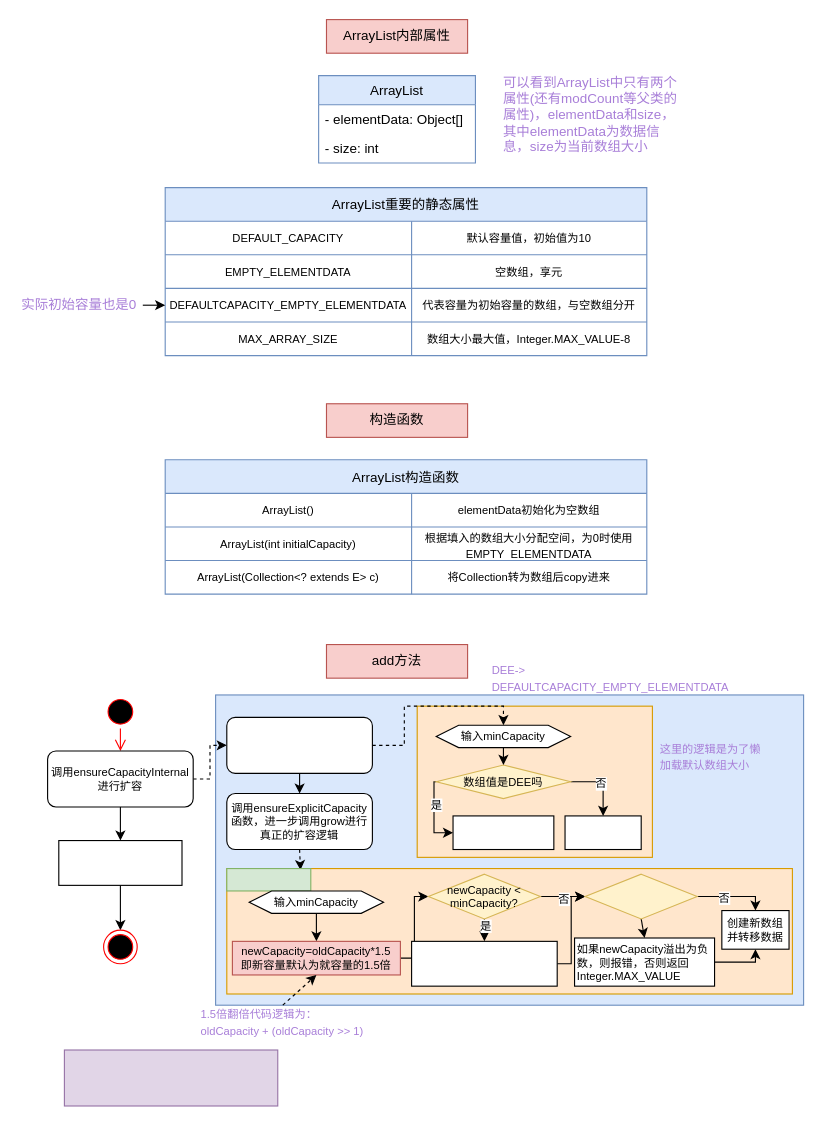
Some shapes in this 823 by 1126 pixel diagram are drawn without their labels. Each missing label, with the centre of its shape:
"grow函数" goes at pixel 268 879.
"newCapacity=minCapacity，即此时新容量直接设置为需求容量" goes at pixel 483 963.
"newCapacity> MAX_ARRAY_SIZE?" goes at pixel 640 896.
"从add函数可以看到ArrayList可以自动扩容，但是却不会自动缩容，只有在手动调用 trimToSize 方法时才会缩小容量" goes at pixel 170 1077.
"元素插入到尾部，size++" goes at pixel 120 862.
"直接返回minCapacity" goes at pixel 602 832.
"调用calculateCapacity函数 进一步获取扩容值" goes at pixel 299 744.
"返回max(默认值, minCapacity)" goes at pixel 503 832.
